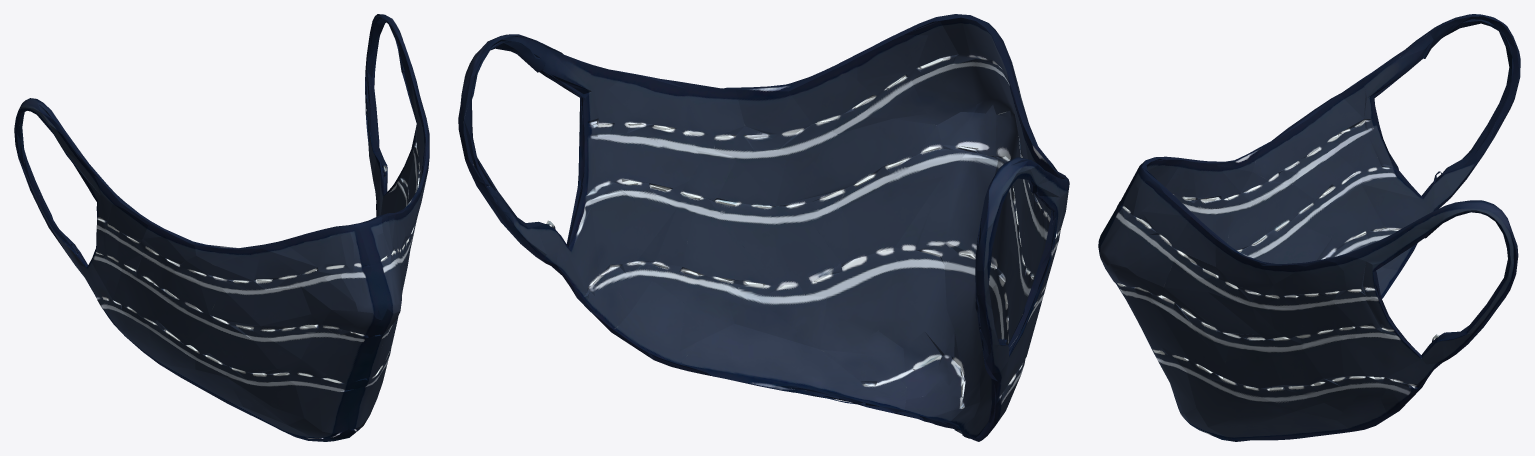
File: nerith_f-masque-2-trois-vagues.glb
3 views of the same model, side by side, from view 1: azimuth 30°, elevation 25°; view 2: azimuth 150°, elevation 25°; view 3: azimuth 270°, elevation 25° (orthographic). The views are drawn at different scales.
Parts seen in each view (by area): view 1: geometry_0; view 2: geometry_0; view 3: geometry_0.
Boxes of the visible parts, x1=… form: geometry_0: x1=14, y1=14, x2=429, y2=441; geometry_0: x1=458, y1=14, x2=1069, y2=441; geometry_0: x1=1098, y1=14, x2=1520, y2=441.
Bounding box in the file's own units: 1.9 × 1.47 × 1.74.
Materials: 1 (1 with a texture image).
